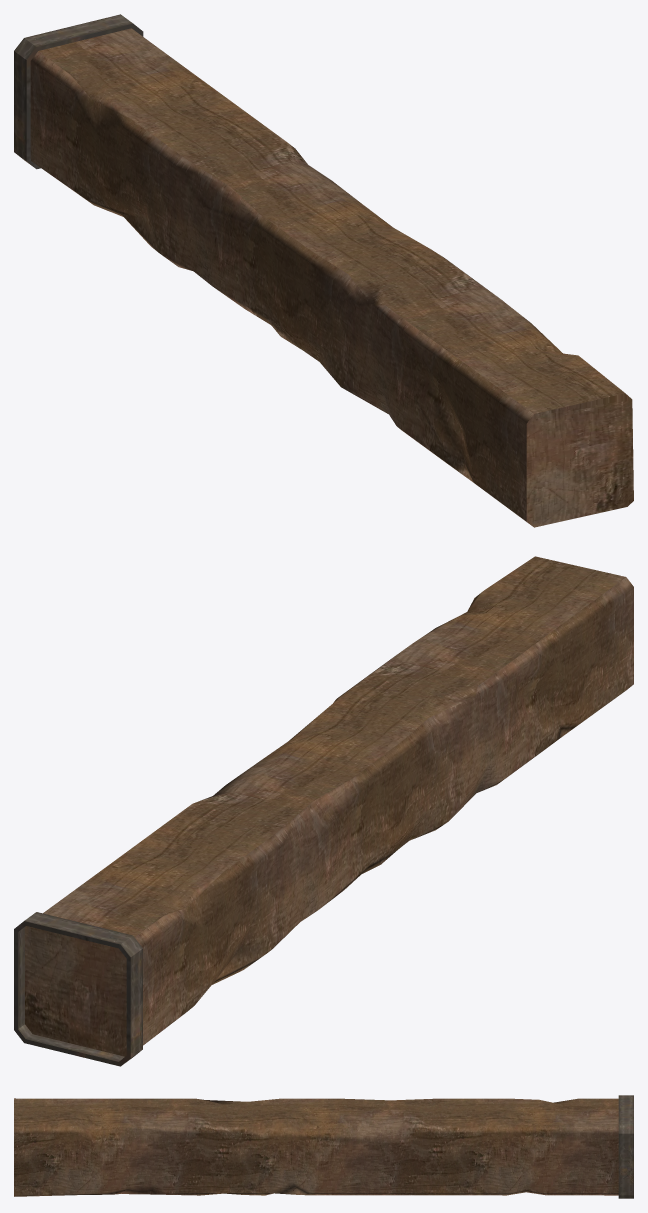
3 renders of one model, top to bottom at view 1: azimuth 30°, elevation 25°; view 2: azimuth 150°, elevation 25°; view 3: azimuth 270°, elevation 25°, orthographic. The views are drawn at different scales.
Parts seen in each view (by area): view 1: SM_WoodSupport_8M_LOD0; view 2: SM_WoodSupport_8M_LOD0; view 3: SM_WoodSupport_8M_LOD0.
Boxes of the visible parts, x1=… form: SM_WoodSupport_8M_LOD0: x1=14, y1=14, x2=633, y2=527; SM_WoodSupport_8M_LOD0: x1=14, y1=556, x2=633, y2=1066; SM_WoodSupport_8M_LOD0: x1=14, y1=1095, x2=633, y2=1198.
Size of the model in its own units: 1.08 by 1.08 by 8.11.
2 materials, 2 textured.
